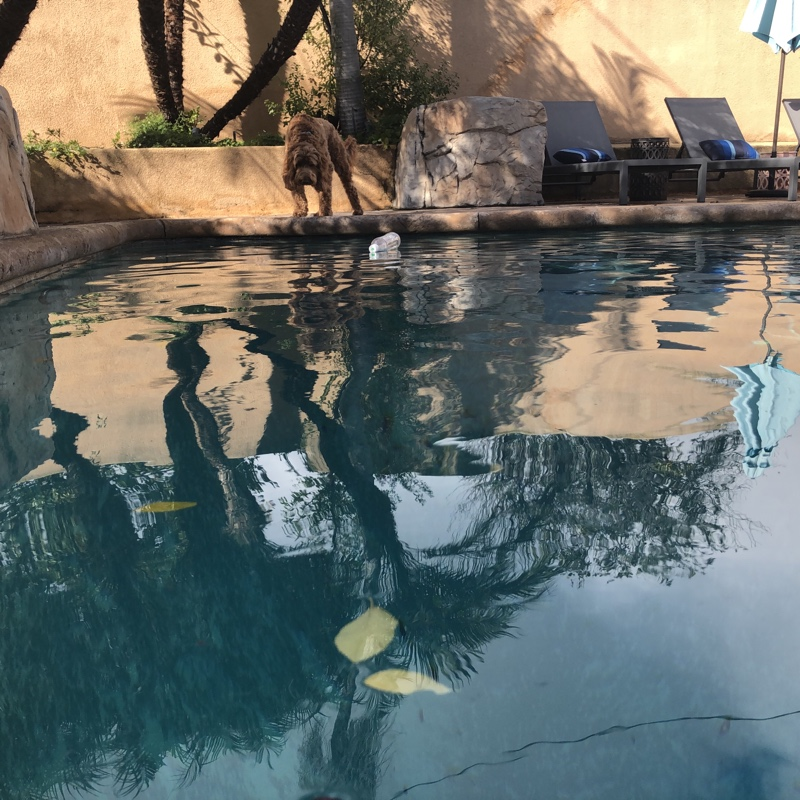Plastic Bottle: (366, 230, 401, 257)
